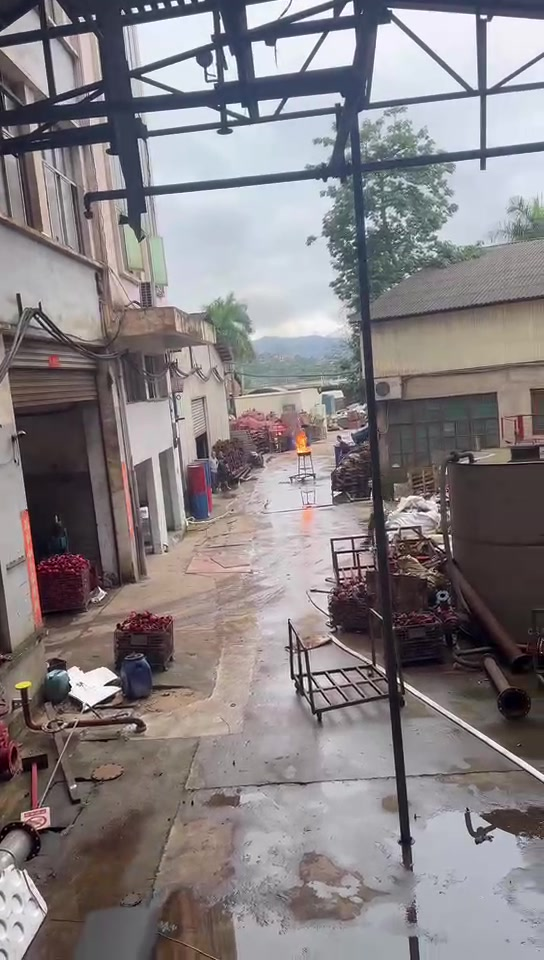fire: (293, 430, 310, 453)
